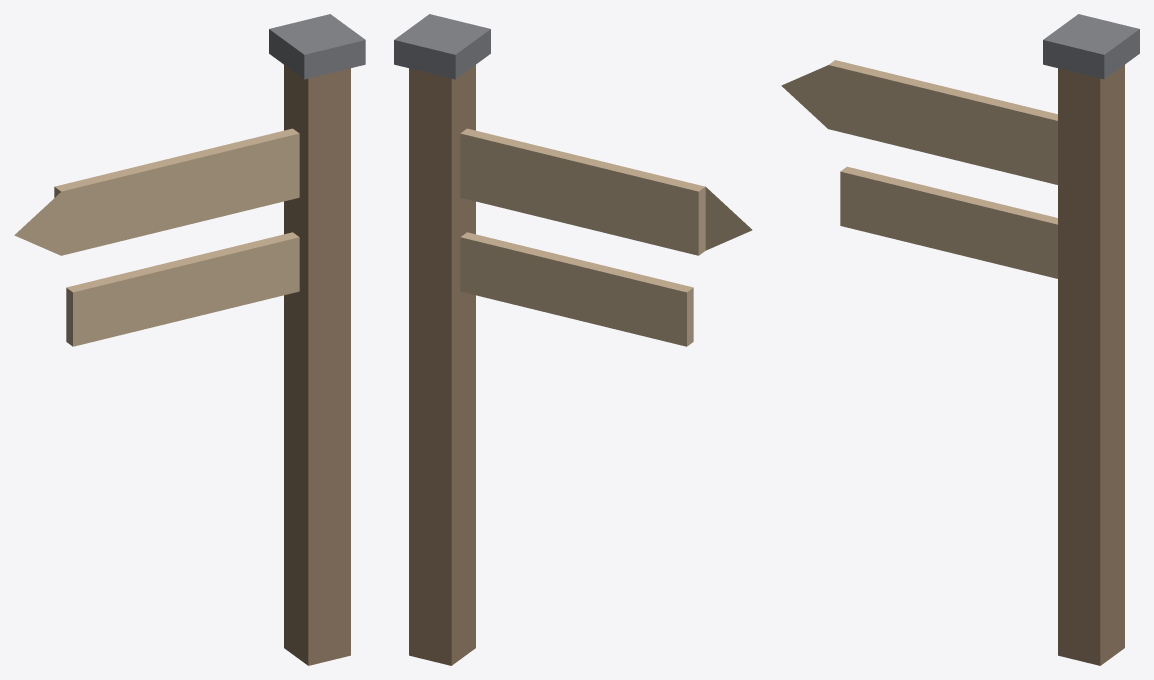
Rendered from HK_GuidePost.glb.
The picture shows the model from 3 angles, left to right: view 1: azimuth 30°, elevation 25°; view 2: azimuth 150°, elevation 25°; view 3: azimuth 330°, elevation 25°; orthographic projection.
Visible parts, largest first — view 1: HK_GuidePost; view 2: HK_GuidePost; view 3: HK_GuidePost.
Part boxes in pixels (x1=…): HK_GuidePost: x1=14, y1=14, x2=365, y2=665; HK_GuidePost: x1=394, y1=14, x2=752, y2=665; HK_GuidePost: x1=781, y1=14, x2=1139, y2=665.
Bounding box in the file's own units: 1.43 × 2.5 × 0.26.
